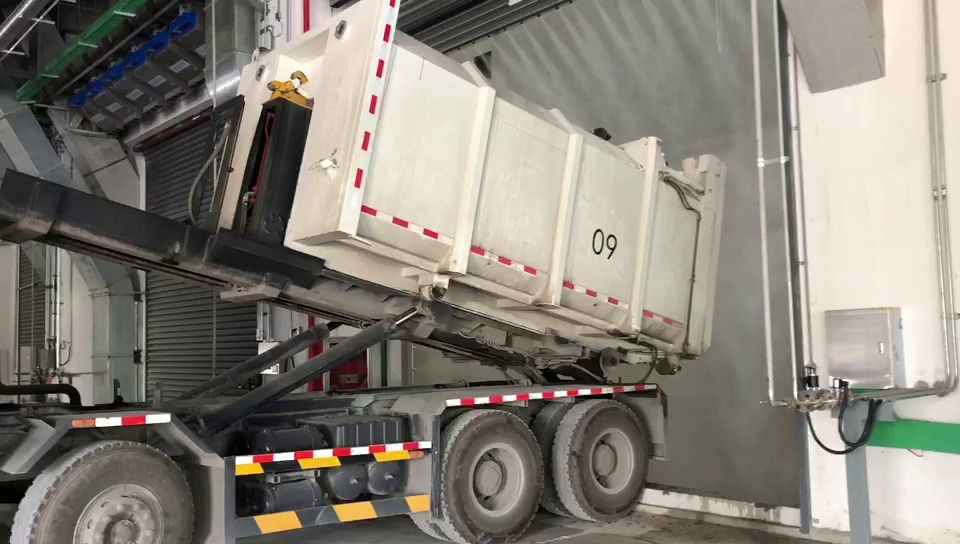truck: (2, 0, 738, 543)
